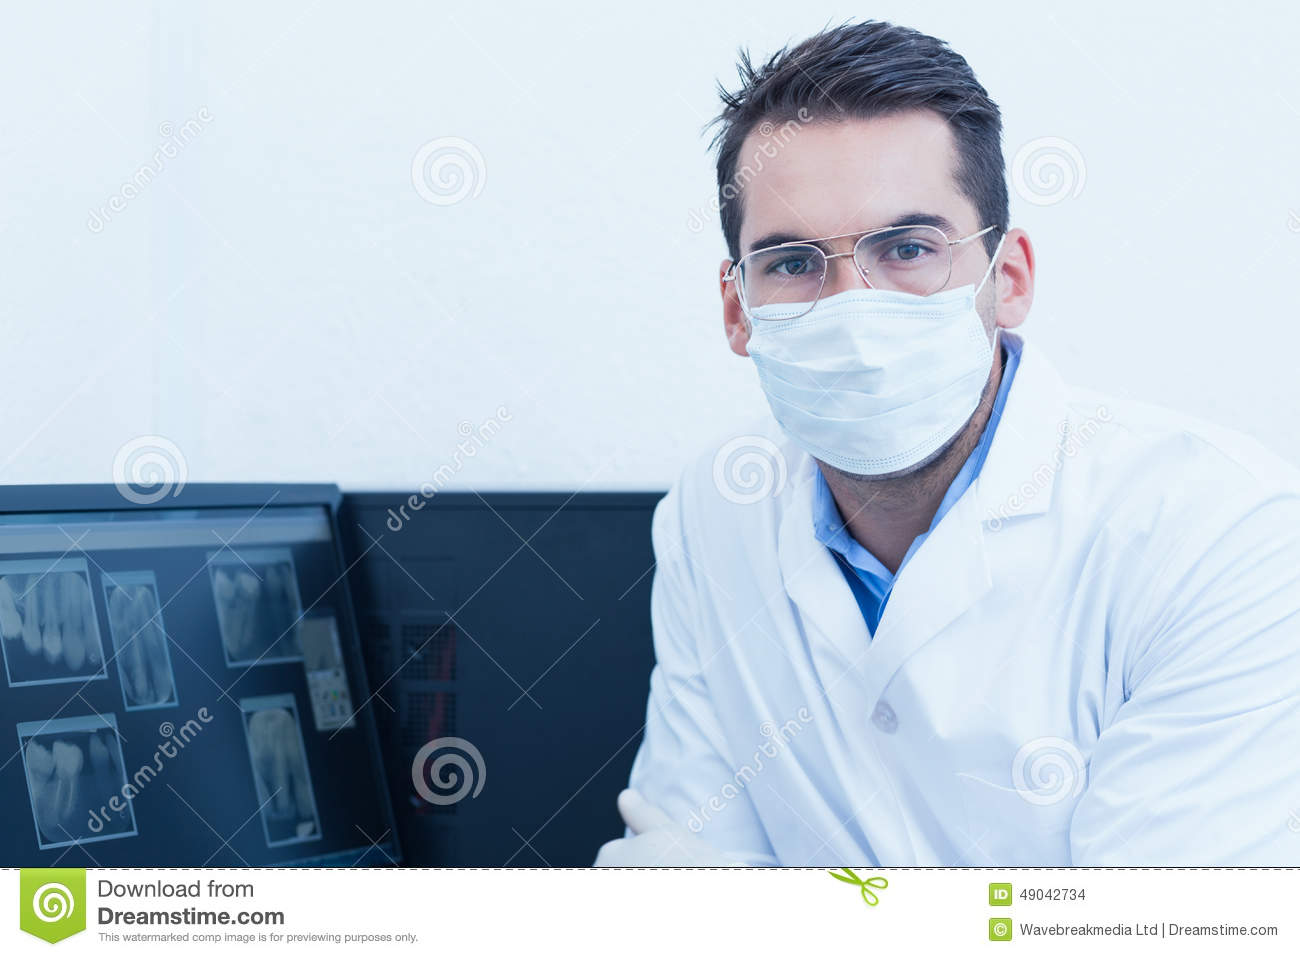mask: (741, 299, 1003, 470)
